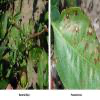Bell_pepper leaf spot: (53, 4, 99, 89), (37, 47, 49, 90), (29, 44, 43, 69), (0, 10, 9, 43), (17, 28, 24, 55), (13, 10, 24, 23)
